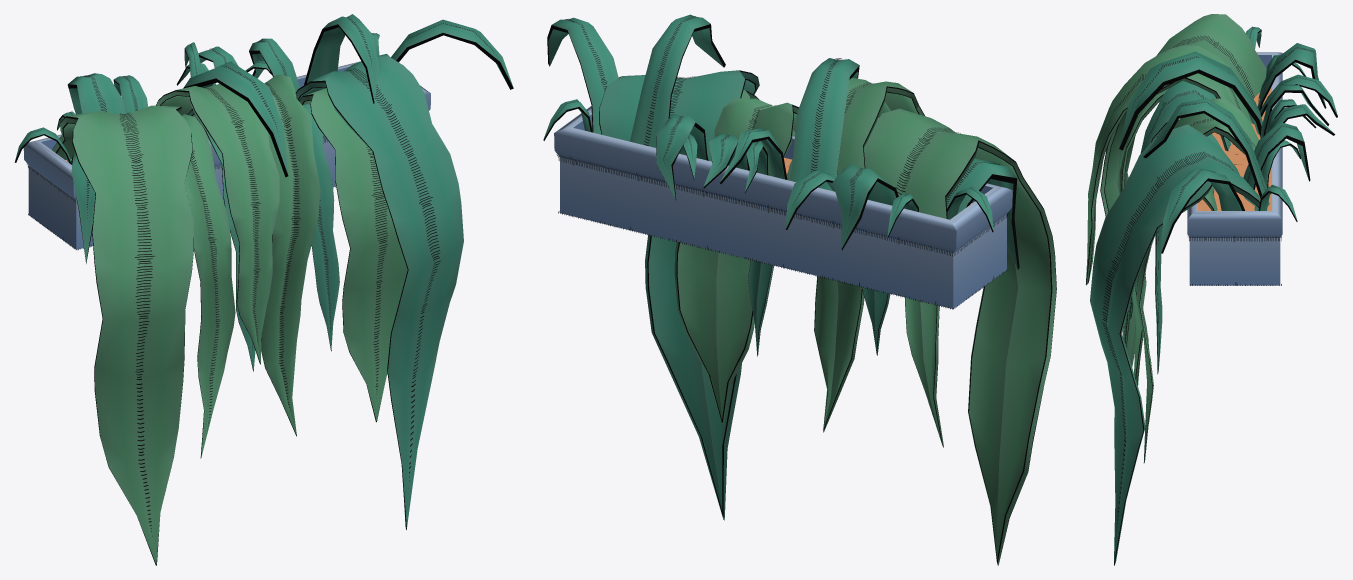
The model's file is FlowerPot_Large_03.glb.
3 views of the same model, side by side, from view 1: azimuth 30°, elevation 25°; view 2: azimuth 150°, elevation 25°; view 3: azimuth 270°, elevation 25° (orthographic). The views are drawn at different scales.
Visible parts, largest first — view 1: FlowerPot_Large_03; view 2: FlowerPot_Large_03; view 3: FlowerPot_Large_03.
Part boxes in pixels (left/top/right/bottom): FlowerPot_Large_03: left=14, top=14, right=513, bottom=565; FlowerPot_Large_03: left=543, top=14, right=1056, bottom=565; FlowerPot_Large_03: left=1086, top=14, right=1337, bottom=565.
Size of the model in its own units: 4.35 by 4.47 by 2.23.
Materials: 3 (3 with a texture image).
